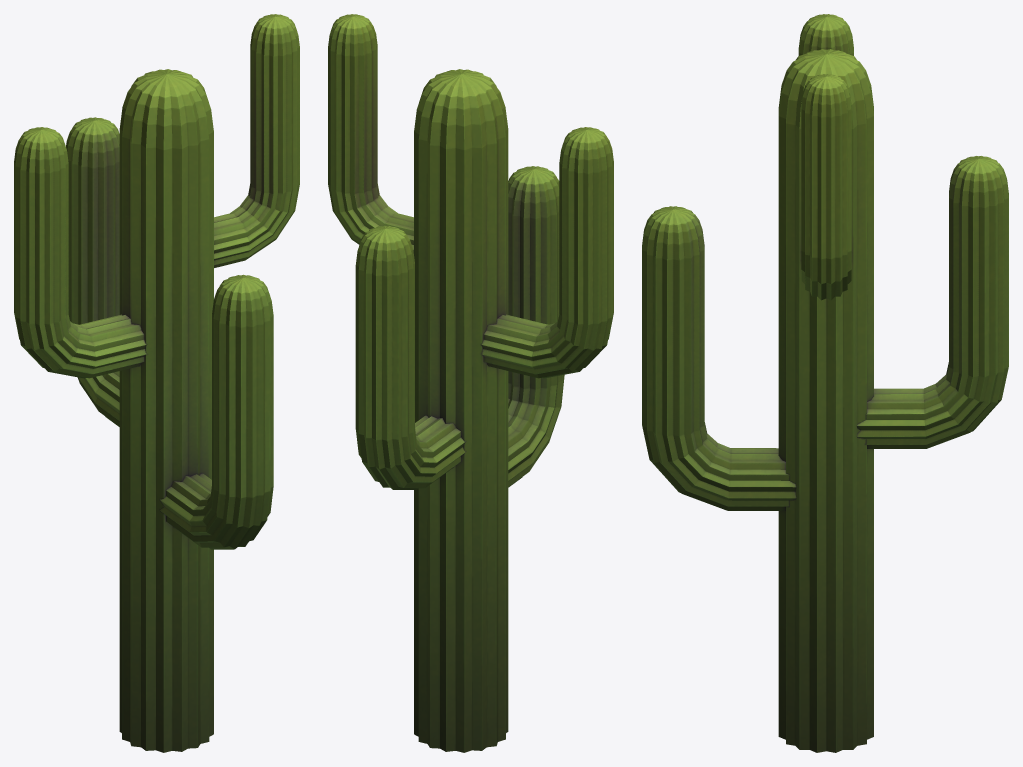
Rendered from cactus2.fbx.
The picture shows the model from 3 angles, left to right: view 1: azimuth 30°, elevation 25°; view 2: azimuth 150°, elevation 25°; view 3: azimuth 270°, elevation 25°; orthographic projection. The views are drawn at different scales.
Parts seen in each view (by area): view 1: polySurface6; view 2: polySurface6; view 3: polySurface6.
Part boxes in pixels (x1=…): polySurface6: x1=14, y1=14, x2=299, y2=752; polySurface6: x1=328, y1=14, x2=613, y2=752; polySurface6: x1=642, y1=14, x2=1008, y2=752.
Bounding box in the file's own units: 13.35 × 31.65 × 14.8.
